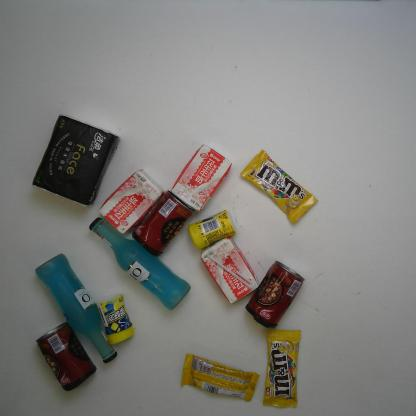Alcohol: (87, 214, 192, 310), (34, 251, 118, 366)
Canned Food: (131, 188, 196, 258), (35, 321, 96, 393), (245, 260, 306, 330)
Chocolate: (239, 149, 318, 228), (178, 349, 260, 402), (261, 330, 302, 410)
Gum: (187, 210, 239, 252), (97, 292, 135, 348)
Milk: (98, 168, 167, 236), (198, 237, 262, 305), (170, 144, 233, 210)
Tissue: (29, 114, 121, 209)
